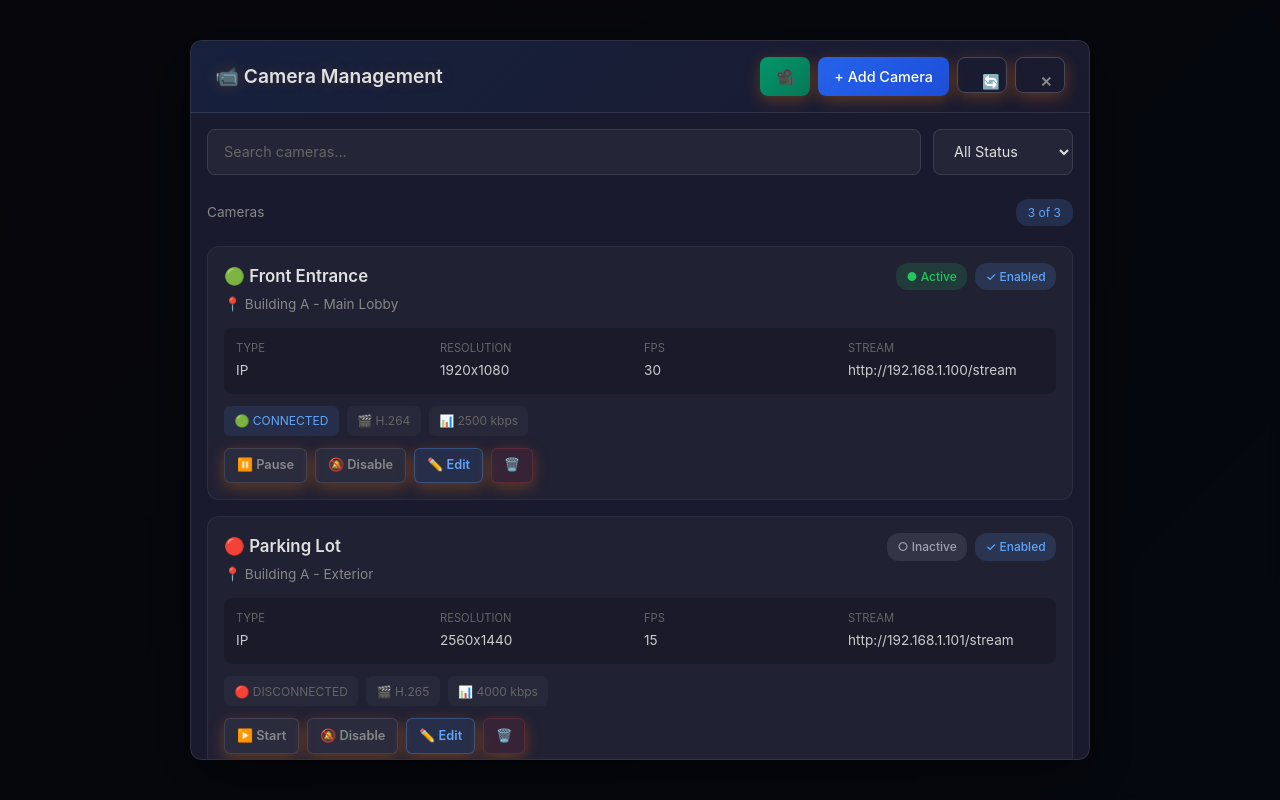
it: CameraManager Component › Add Camera › validates required fields on submit
Click the button "+ Add Camera": (884, 76) x1=818 y1=57 x2=949 y2=96
(page scrolled)
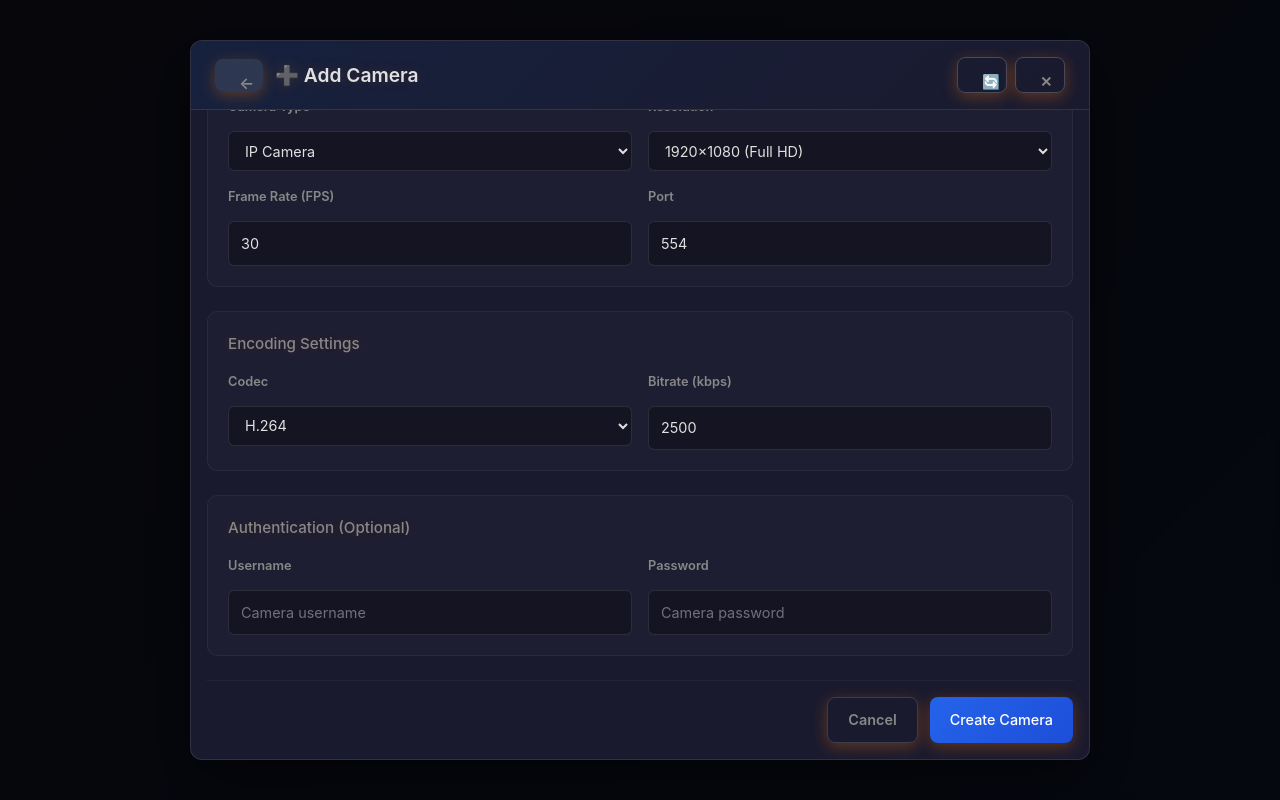
Click the button "Create Camera": (1001, 720) x1=930 y1=697 x2=1073 y2=742
(page scrolled)
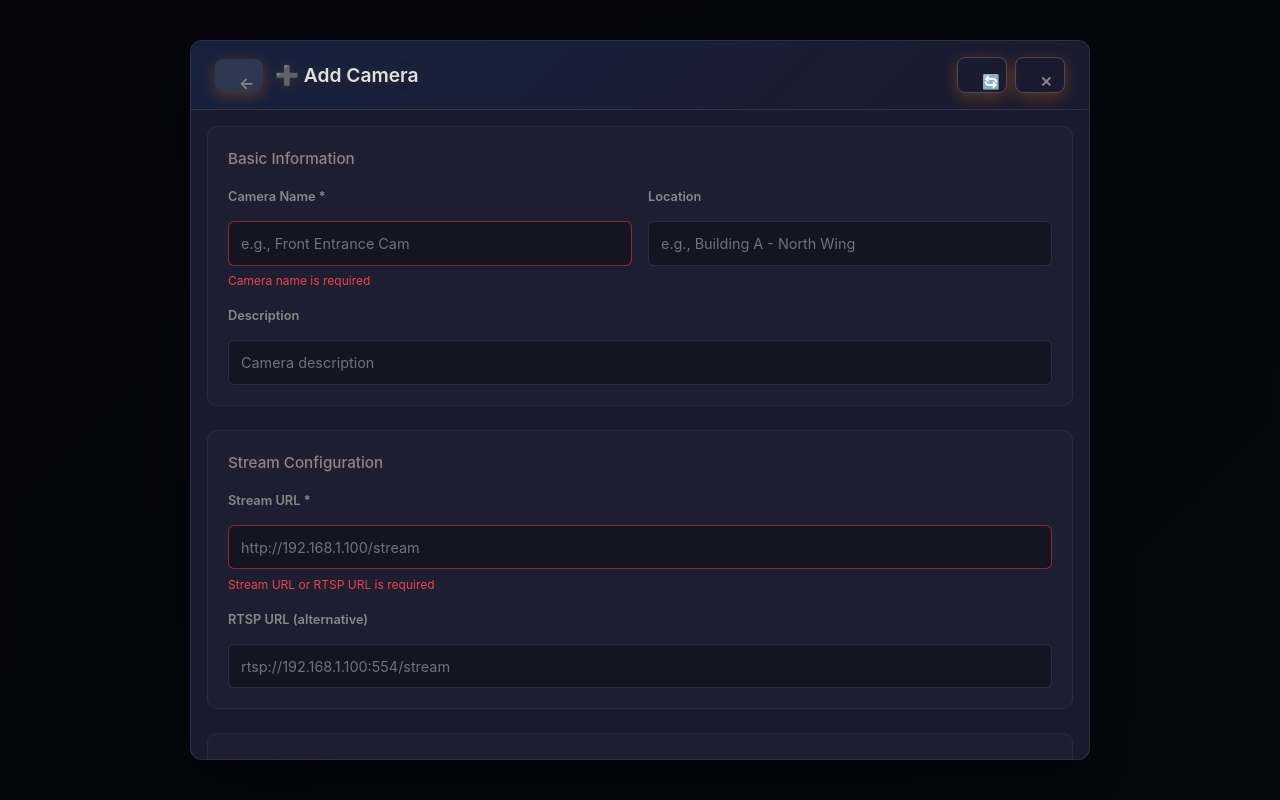
expect the text "Camera name is required" is shown: met, box x1=228 y1=273 x2=370 y2=288
